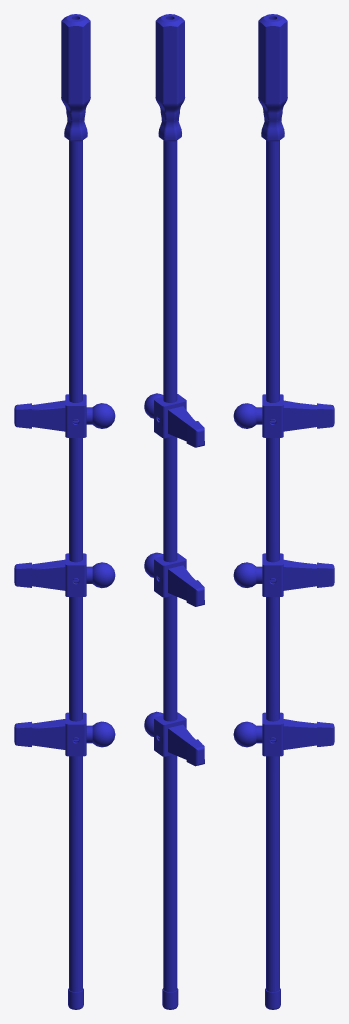
The model's file is 3-bar-centered_team_2.obj.
The picture shows the model from 3 angles, left to right: view 1: azimuth 90°, elevation 25°; view 2: azimuth 210°, elevation 25°; view 3: azimuth 270°, elevation 25°; orthographic projection.
Visible parts, largest first — view 1: 3-bar; view 2: 3-bar; view 3: 3-bar.
Boxes of the visible parts, bbox=[...] form: 3-bar: bbox=[14, 14, 115, 1009]; 3-bar: bbox=[144, 14, 204, 1009]; 3-bar: bbox=[233, 14, 334, 1009].
Size of the model in its own units: 0.032 by 1.24 by 0.115.
